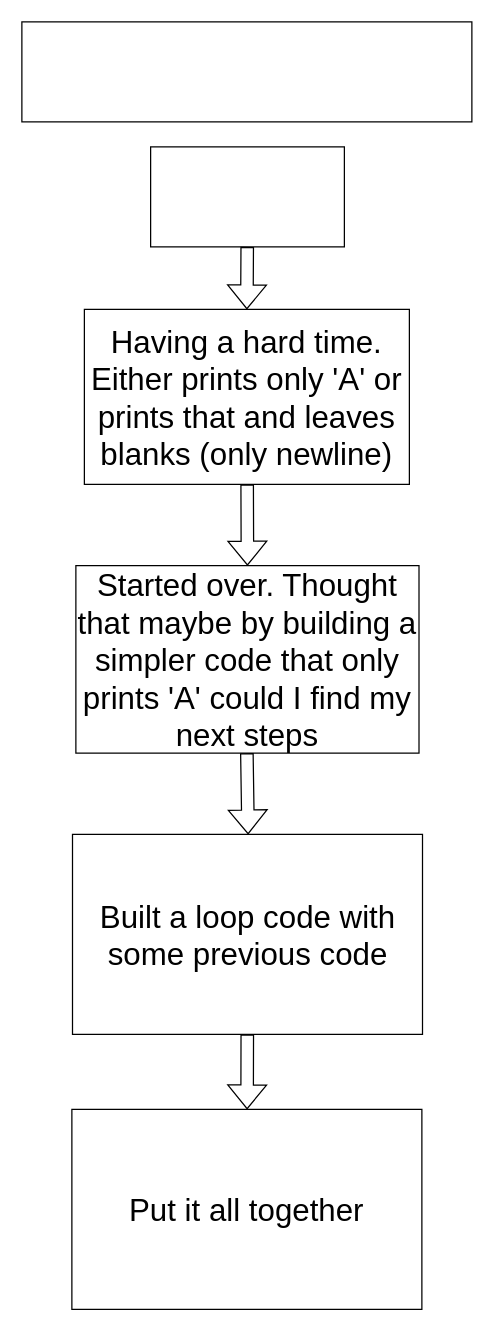
Image size: 494x1331. Some labels were removed from this diagram. Here are the shapes that lost their labels. From the top down, the centre of each, then its label:
At (246,71): "Thought Process for Procedures Assignment".
At (246,196): "I wanted simple code".
